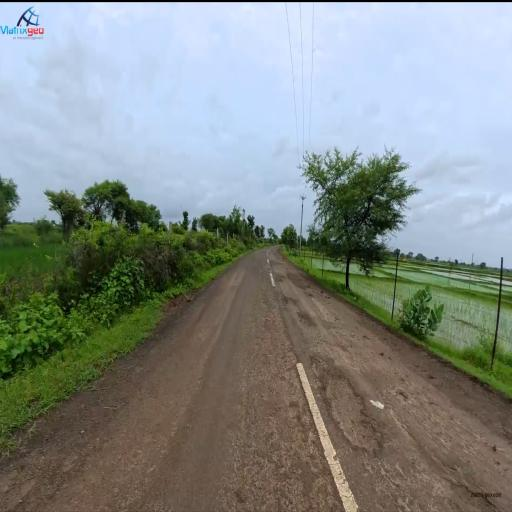ravelling: (306, 350, 400, 485)
